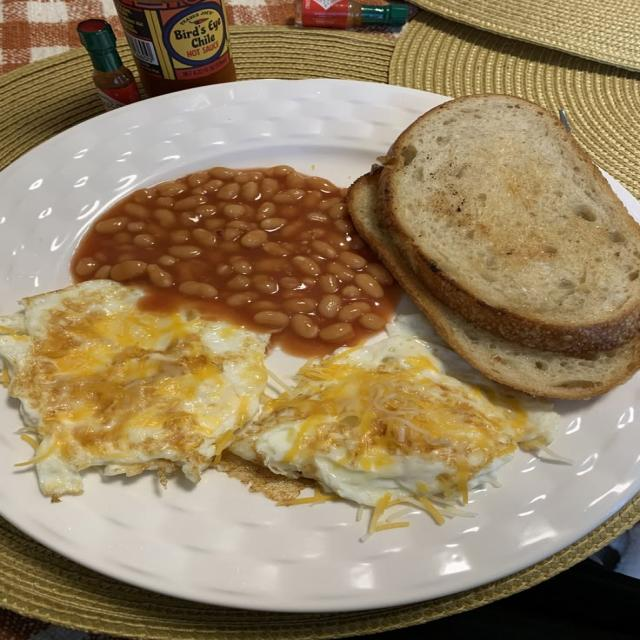beans: (74, 166, 393, 354), (110, 260, 146, 281), (291, 314, 319, 339), (319, 322, 354, 342), (179, 281, 218, 298), (254, 311, 289, 329), (147, 264, 173, 288), (318, 294, 342, 318), (240, 229, 268, 248)
omelette: (233, 316, 559, 532), (0, 280, 268, 500)
sliced bread: (378, 95, 639, 354), (356, 170, 639, 399)
